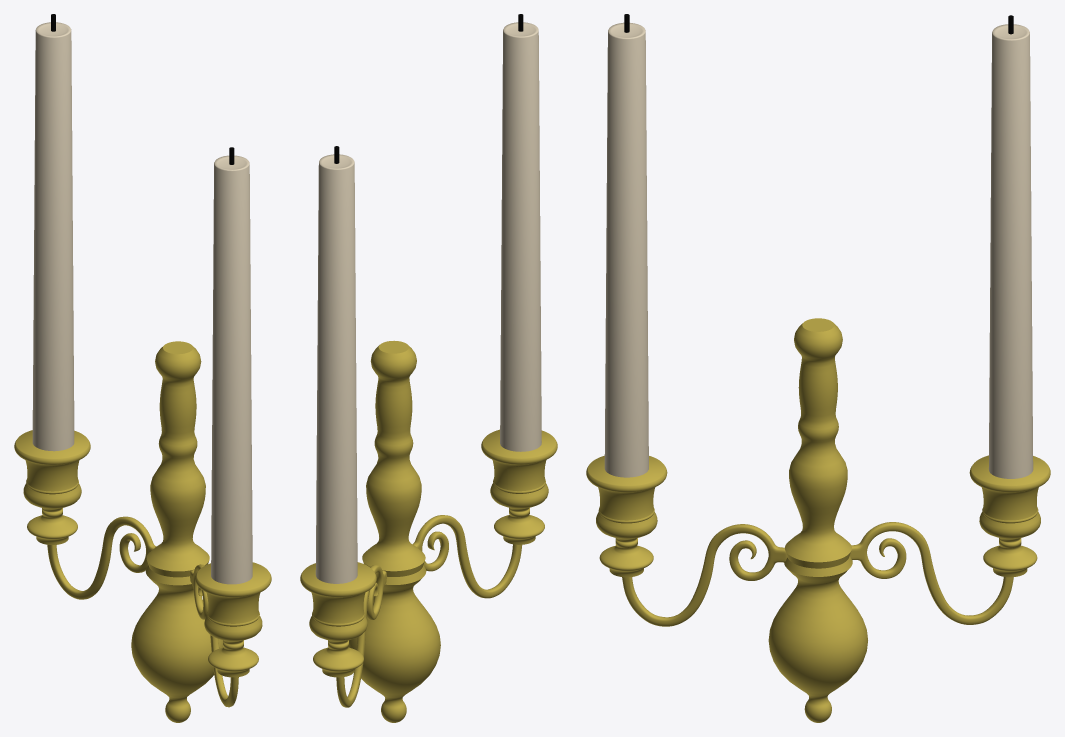
The model's file is F_Candle.fbx.
3 views of the same model, side by side, from view 1: azimuth 30°, elevation 25°; view 2: azimuth 150°, elevation 25°; view 3: azimuth 270°, elevation 25° (orthographic). The views are drawn at different scales.
Visible parts, largest first — view 1: F_Candle; view 2: F_Candle; view 3: F_Candle.
Part boxes in pixels (x1=…): F_Candle: x1=14, y1=14, x2=271, y2=722; F_Candle: x1=300, y1=14, x2=557, y2=722; F_Candle: x1=586, y1=14, x2=1050, y2=722.
Size of the model in its own units: 10.44 by 59.45 by 36.4.
